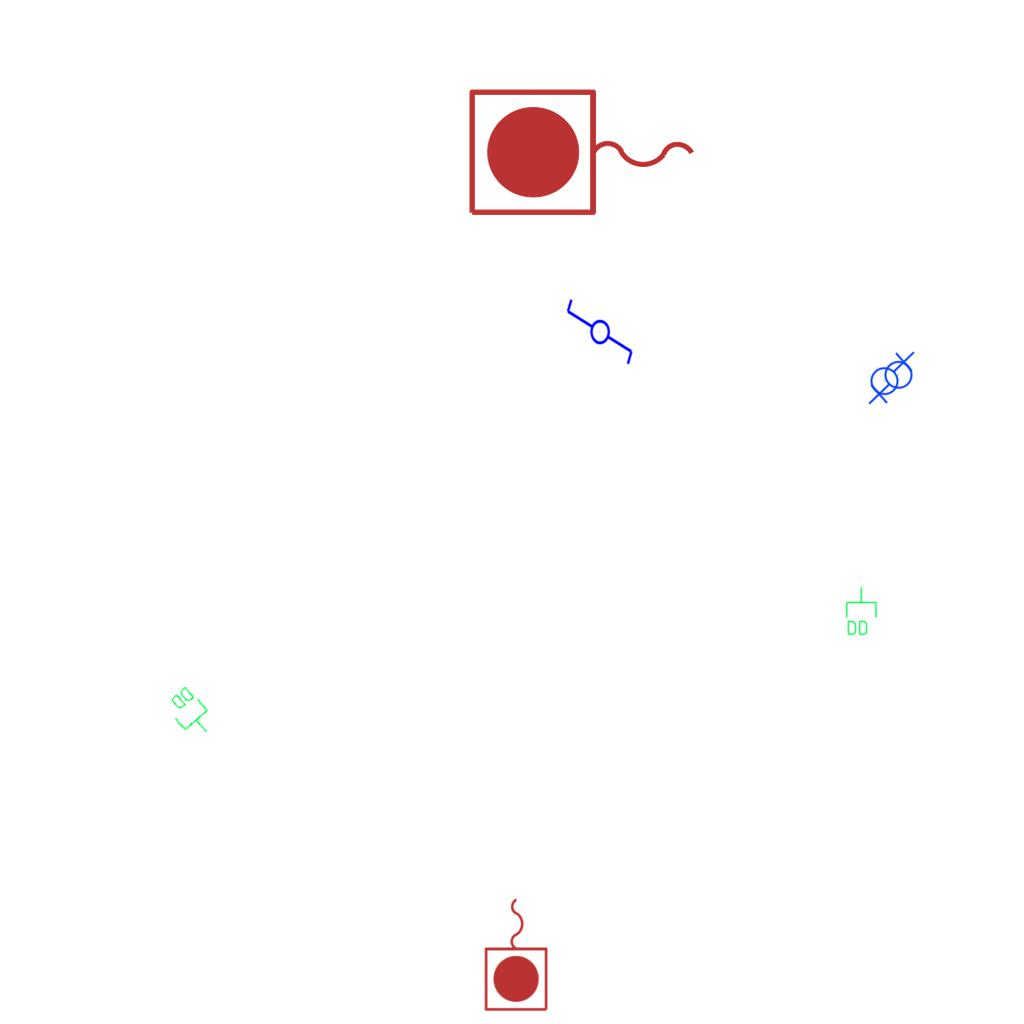Datenanschluss_zweifach: (160, 682, 221, 744), (844, 586, 878, 637)
Elektroanschluss_allgemein_230V_Geraeteanschlussdose_230V: (866, 349, 915, 396), (868, 360, 917, 407)
Wechselschalter: (563, 297, 635, 375)
Zugtaster: (461, 82, 705, 226), (481, 893, 553, 1015)
